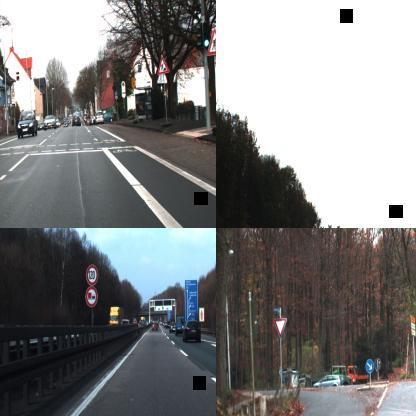CONSTRUCTION: (207, 27, 216, 55), (158, 56, 170, 74)
give way: (273, 318, 287, 339)
keep right: (365, 358, 374, 374)
no overtaking: (85, 286, 98, 308)
speed limit 120: (86, 264, 98, 286)
